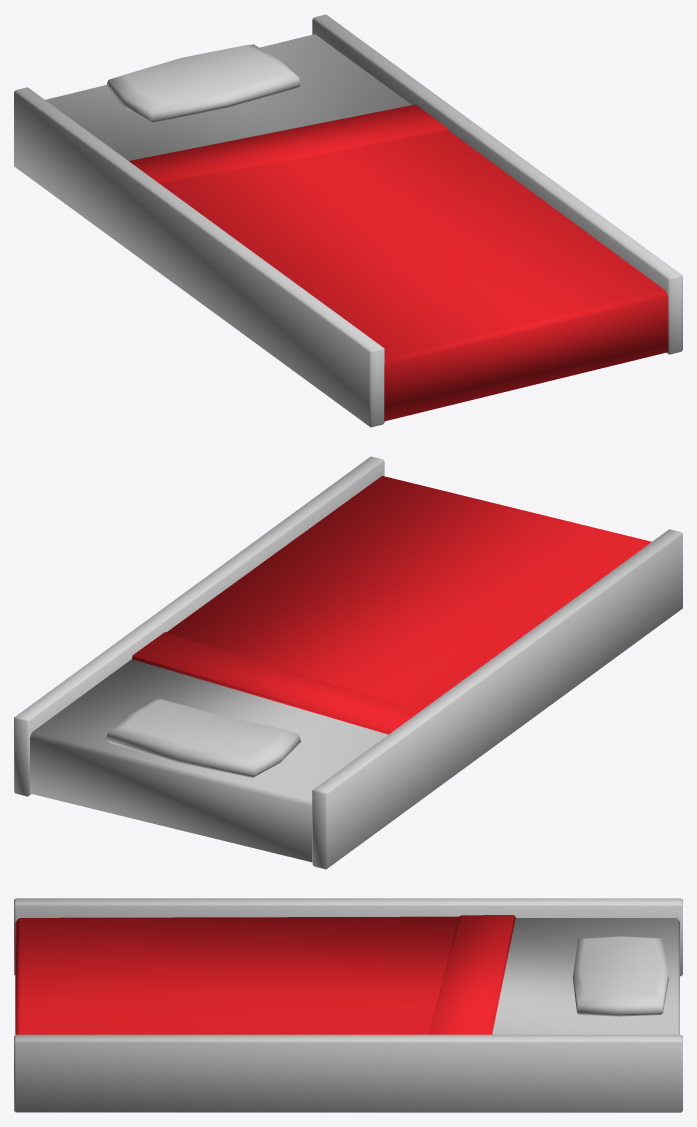
The model's file is bed.fbx.
3 renders of one model, top to bottom at view 1: azimuth 30°, elevation 25°; view 2: azimuth 150°, elevation 25°; view 3: azimuth 270°, elevation 25°, orthographic. The views are drawn at different scales.
Visible parts, largest first — view 1: Matress, Frame, Pillow; view 2: Matress, Frame, Pillow; view 3: Matress, Frame, Pillow.
Boxes of the visible parts, box(x1,y1,x2,y2) form: Matress: box(45, 34, 668, 421); Frame: box(14, 14, 682, 427); Pillow: box(106, 44, 300, 123); Matress: box(30, 476, 651, 862); Frame: box(14, 456, 682, 869); Pillow: box(106, 698, 300, 777); Matress: box(15, 915, 679, 1034); Frame: box(14, 898, 682, 1112); Pillow: box(572, 936, 668, 1016).
Bounding box in the file's own units: 1.78 × 0.433 × 3.51.
